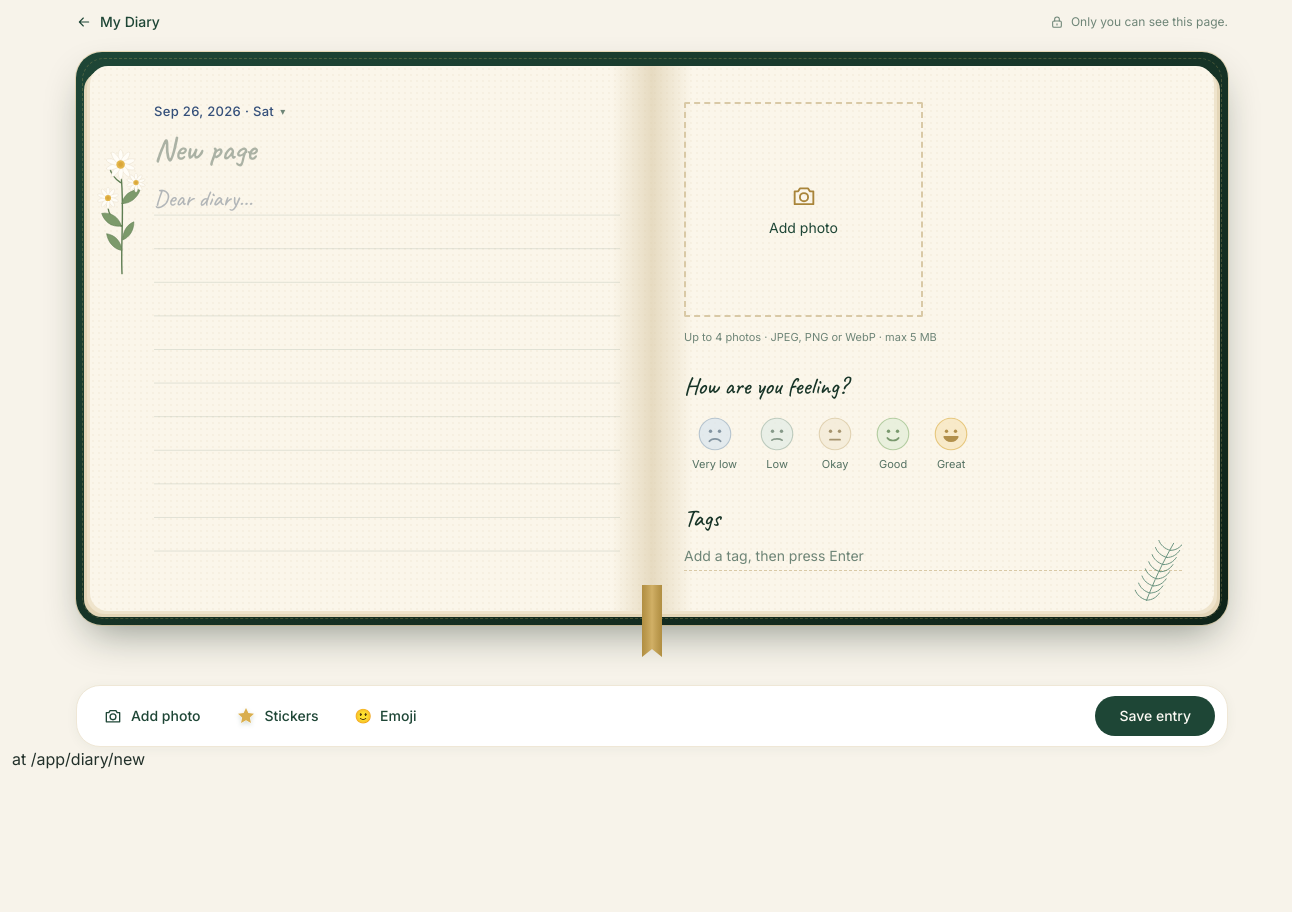
Test: Diary editor › does not save an empty page
Click the button "Save entry" at (1155, 716), box [1095,696,1215,736]
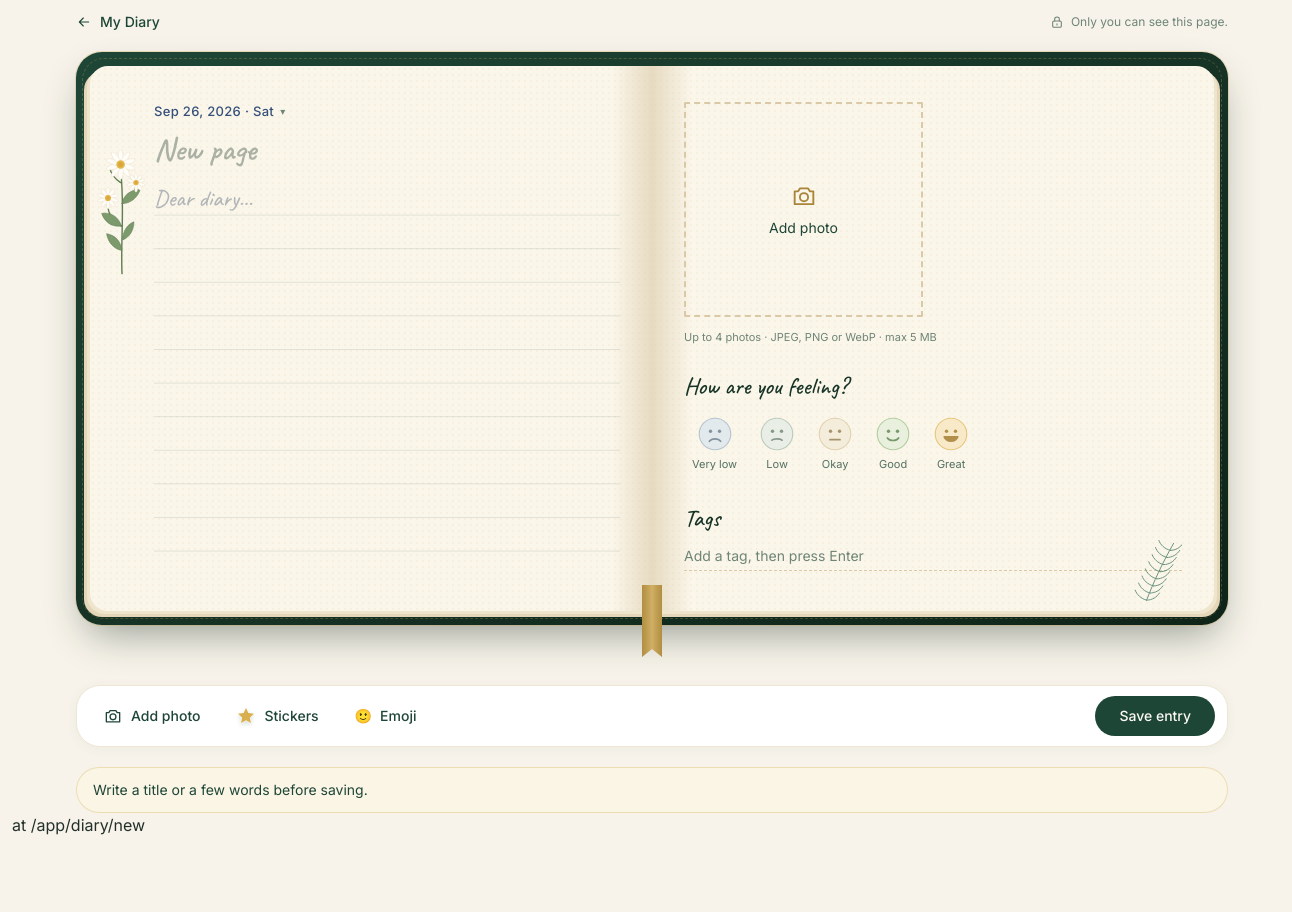
Result: the text "Write a title or a few words before saving." is shown at [76,767,1228,813]
